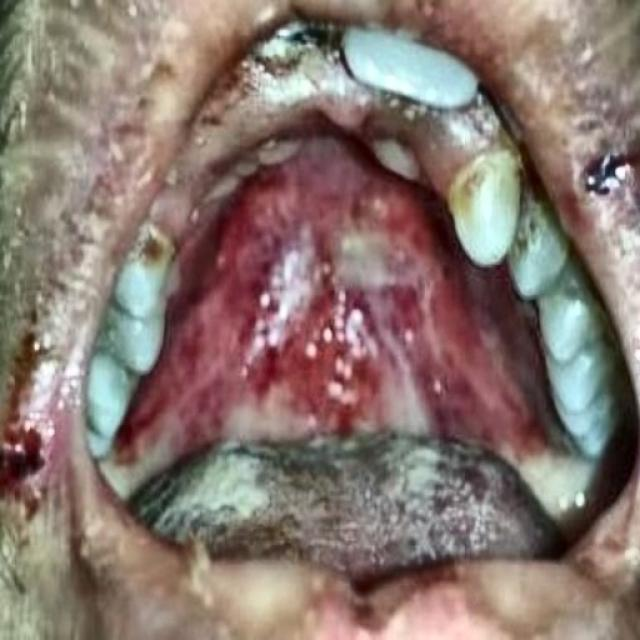cancer-detection: (156, 20, 521, 282), (130, 430, 570, 571), (235, 177, 446, 423)
processing_area: (102, 26, 595, 566)
